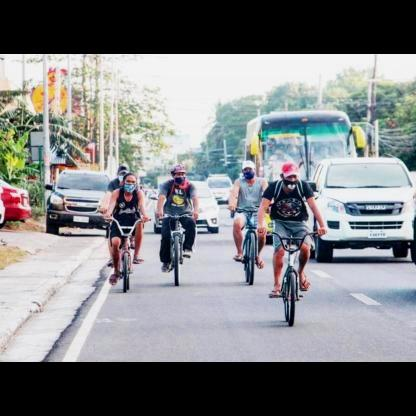Bicycle: (263, 222, 315, 336), (103, 208, 155, 299), (155, 204, 206, 291), (222, 198, 268, 291)
